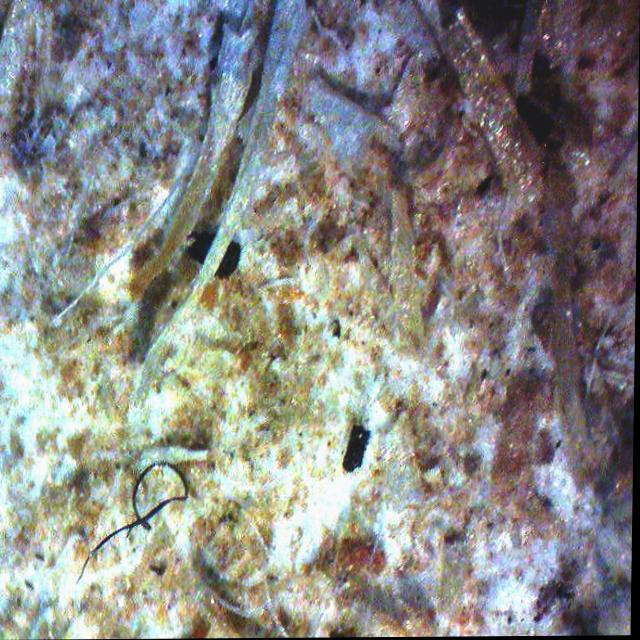microplastic: (129, 462, 190, 538), (79, 525, 131, 582)
